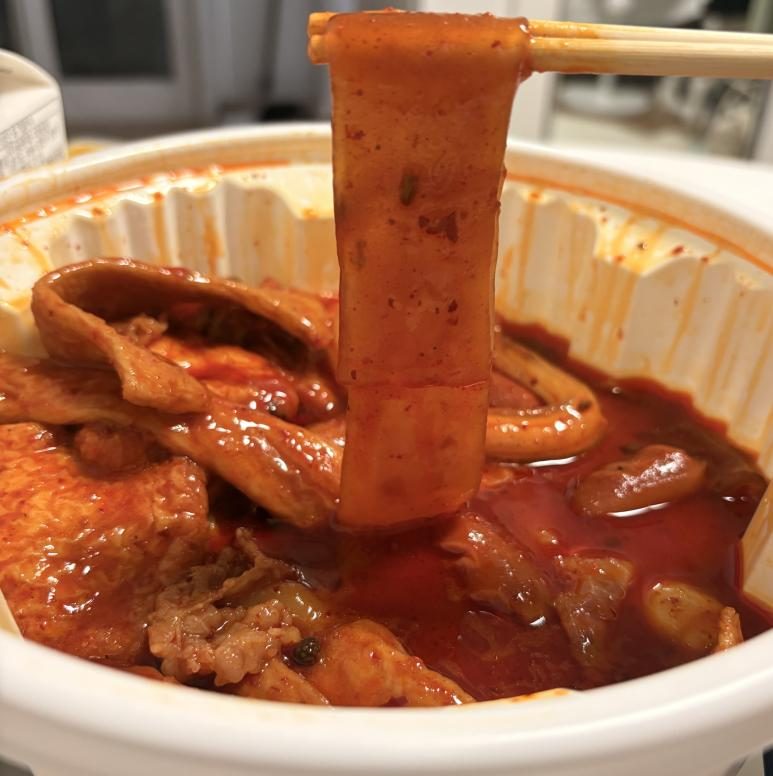Lunch Box: (0, 12, 772, 775)
